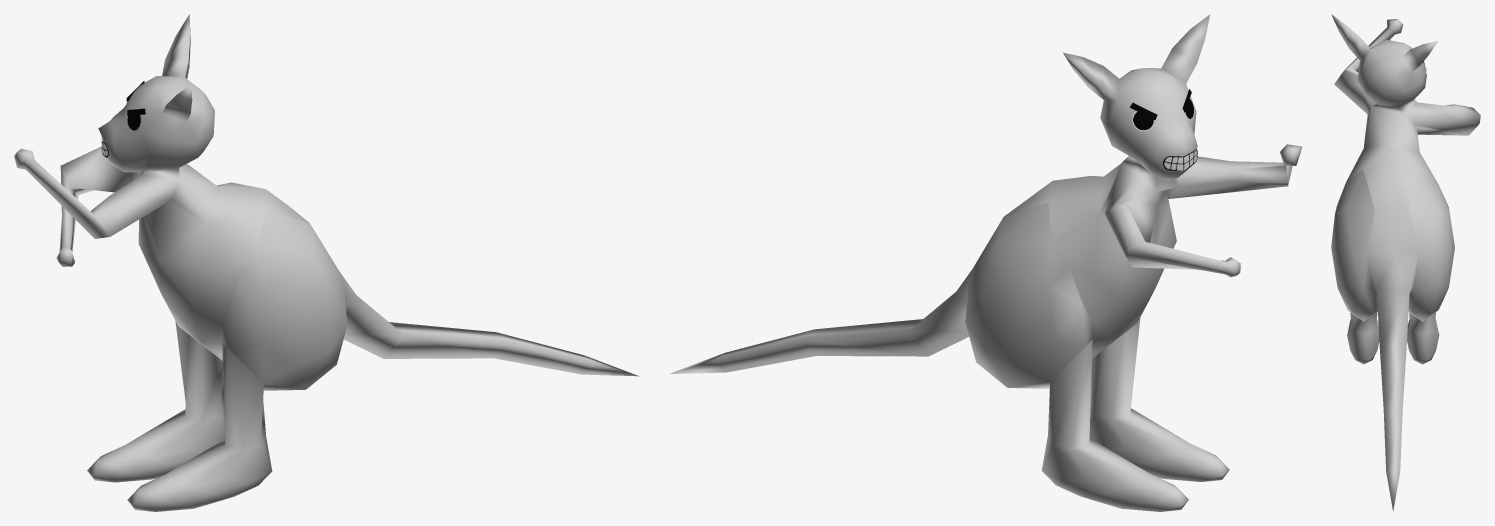
File: KangarooTitle.fbx
3 views of the same model, side by side, from view 1: azimuth 30°, elevation 25°; view 2: azimuth 150°, elevation 25°; view 3: azimuth 270°, elevation 25° (orthographic). The views are drawn at different scales.
Parts seen in each view (by area): view 1: Icosphere.003; view 2: Icosphere.003; view 3: Icosphere.003.
Boxes of the visible parts, <box> form: Icosphere.003: <box>14,14,639,511</box>; Icosphere.003: <box>669,14,1302,511</box>; Icosphere.003: <box>1331,14,1480,511</box>.
Size of the model in its own units: 1495 by 1023 by 428.
